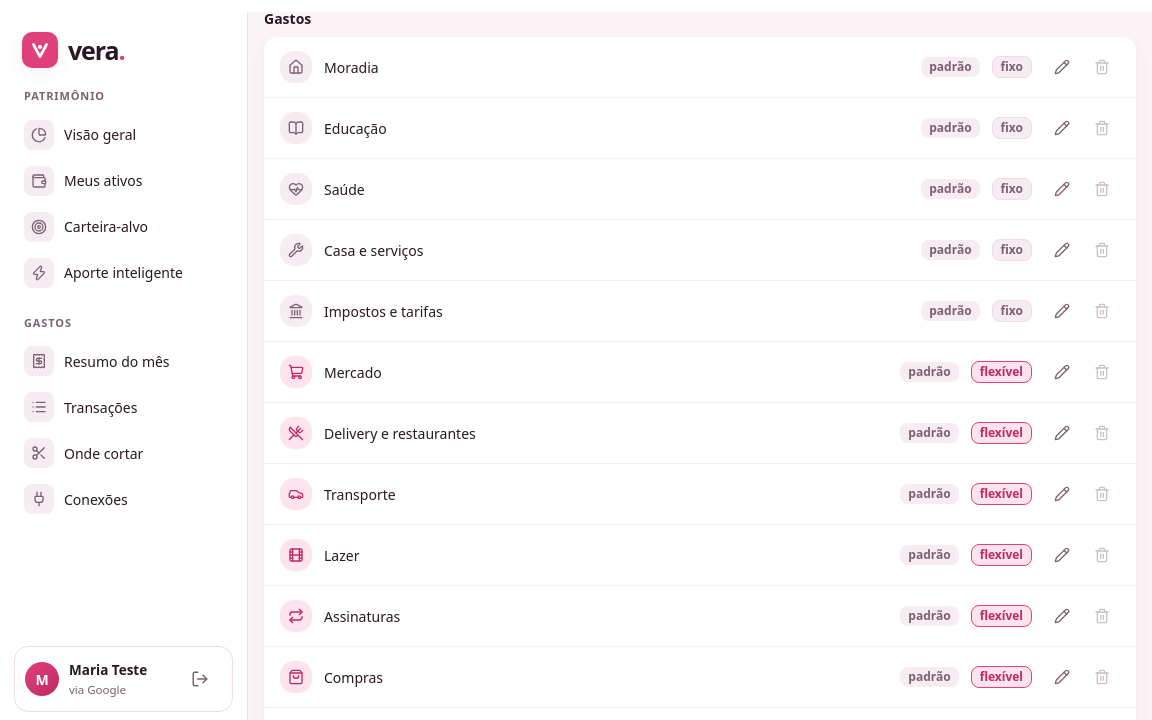
Test case: RulesPage: categorias › renomeia Mercado para Supermercado por teclado e restaura o nome
(page scrolled)
Click the button named "Renomear Mercado" at (1062, 372), box top-left (1044, 354), bottom-right (1080, 390)
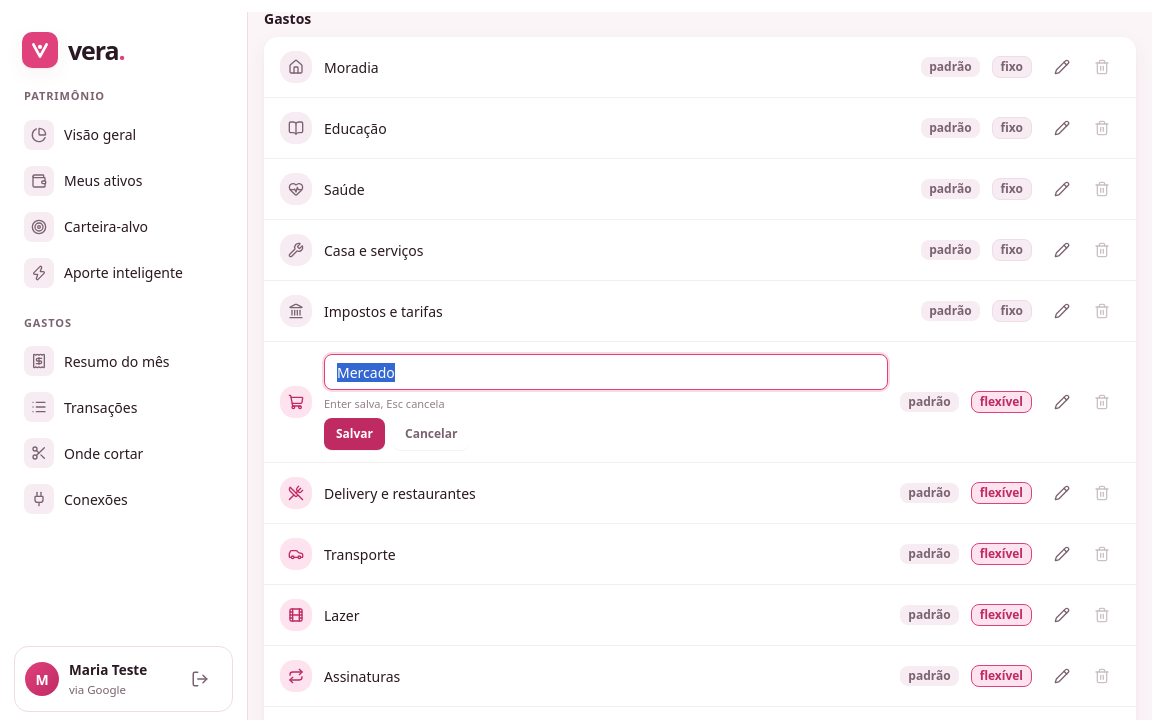
Replace the text in the field named "Nome da categoria Mercado" with "Supermercado" at (606, 372), box top-left (324, 354), bottom-right (888, 390)
Then press Enter
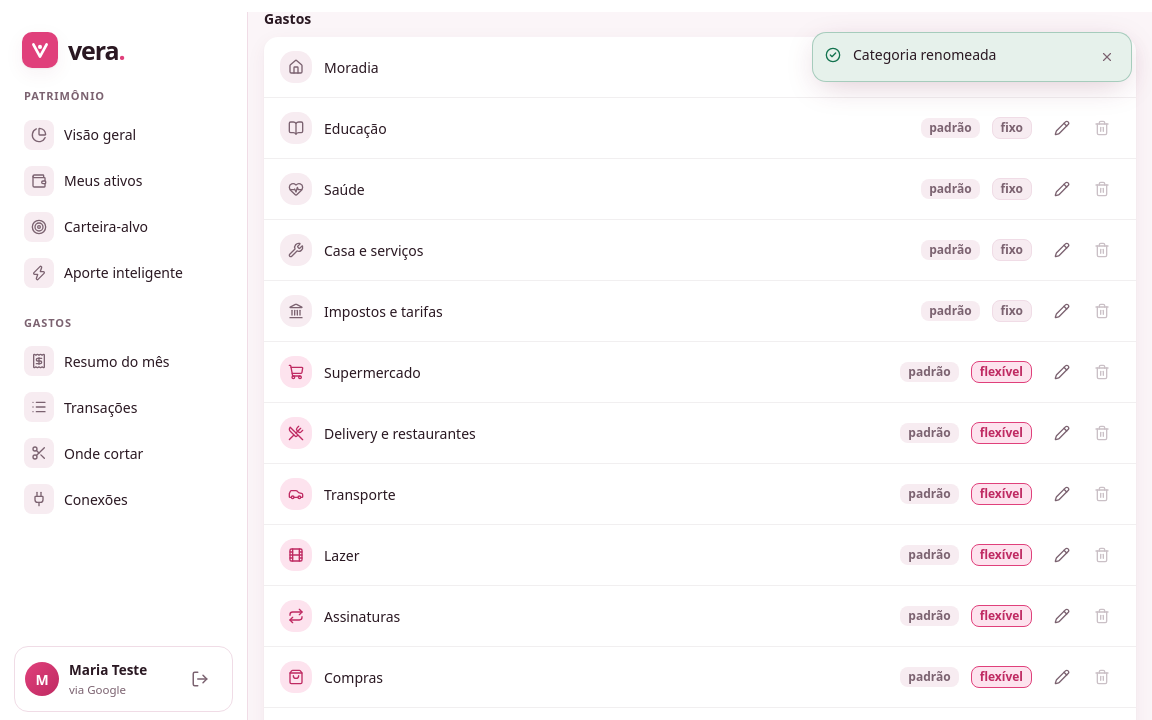
Check: the text "Categoria renomeada" is shown, box top-left (853, 45), bottom-right (996, 65)
Click the button named "Renomear Supermercado" at (1062, 372), box top-left (1044, 354), bottom-right (1080, 390)
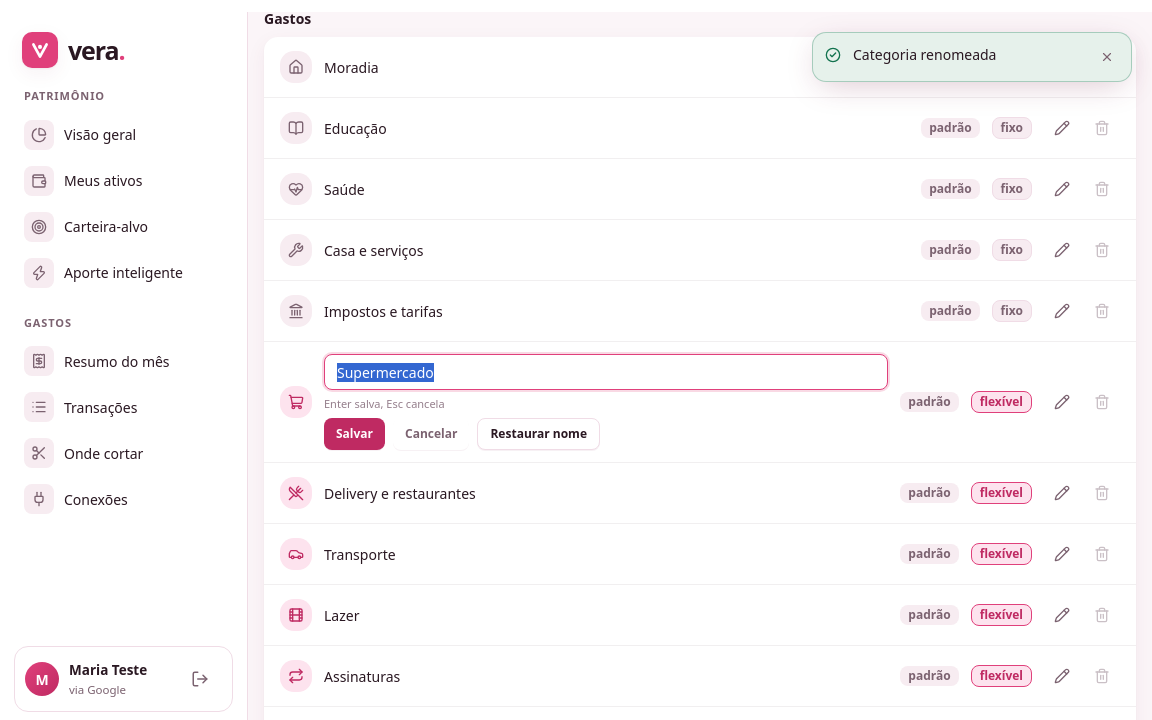
Click the button "Restaurar nome" at (539, 434), box top-left (478, 418), bottom-right (600, 450)
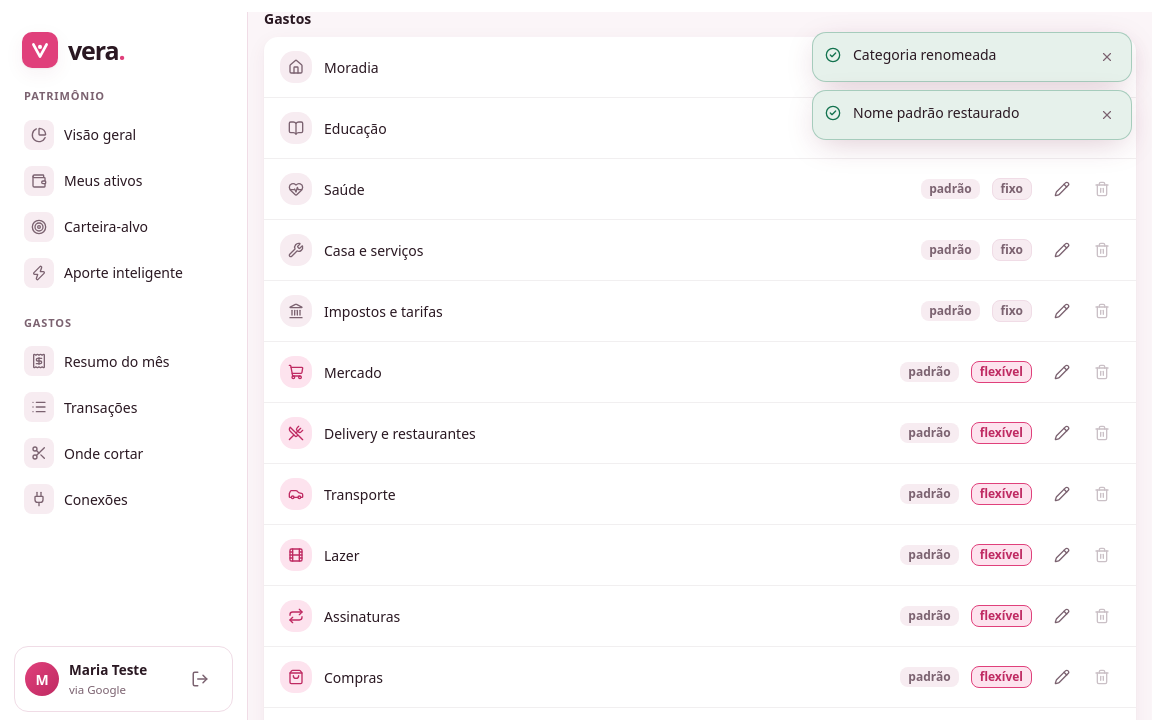
Check: the text "Nome padrão restaurado" is shown, box top-left (853, 103), bottom-right (1019, 123)
